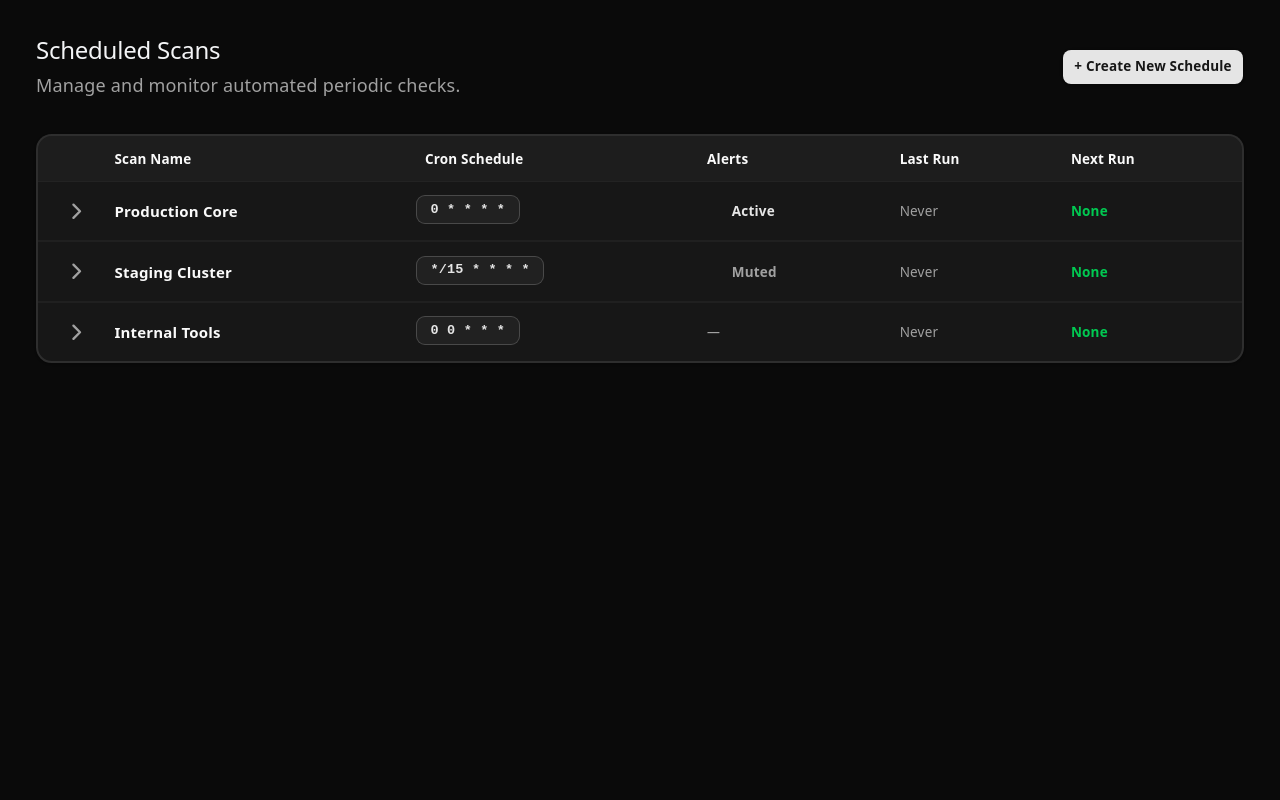
ScheduledScansPage Alert Stopper Controls › keeps inline Edit Schedule open and displays bottom error banner when update fails
Click the text "Production Core" at (176,211), box [106, 181, 416, 241]
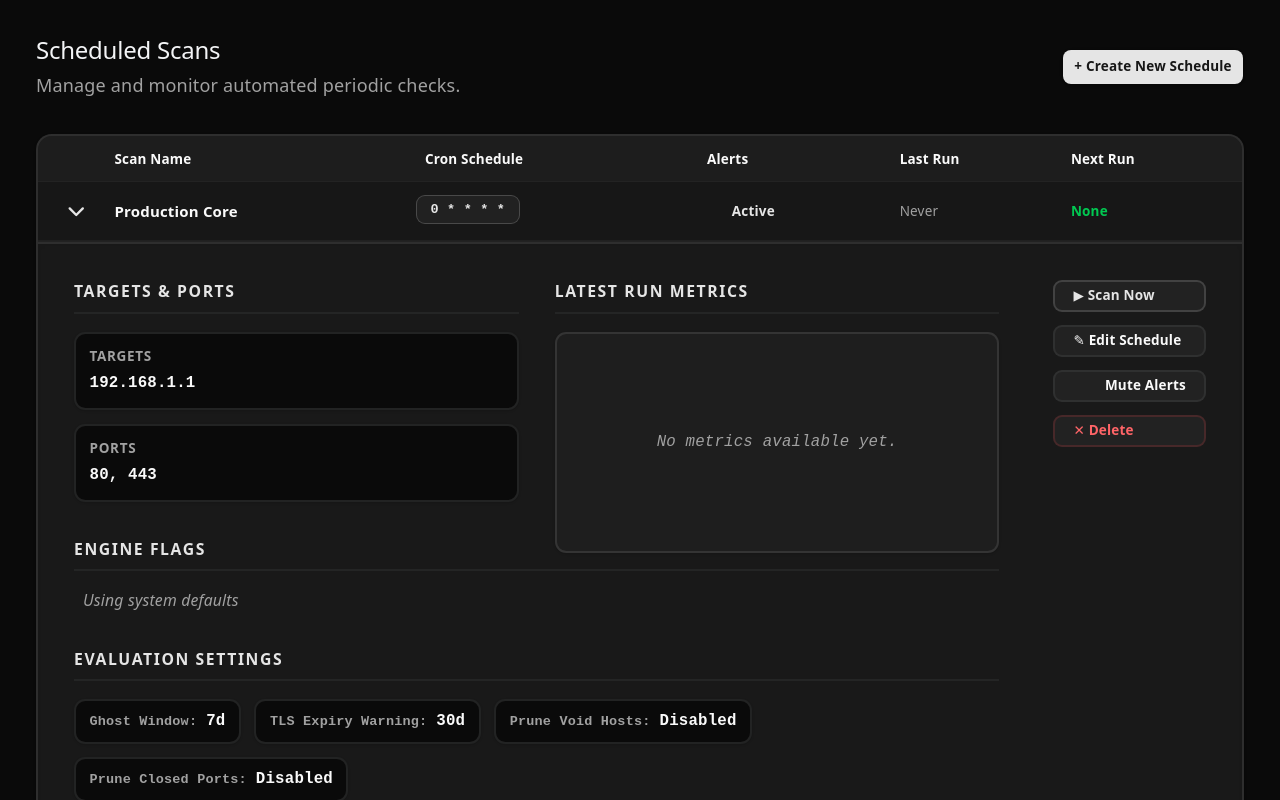
Click the button "✎ Edit Schedule" at (1130,341), box [1054, 325, 1206, 357]
(page scrolled)
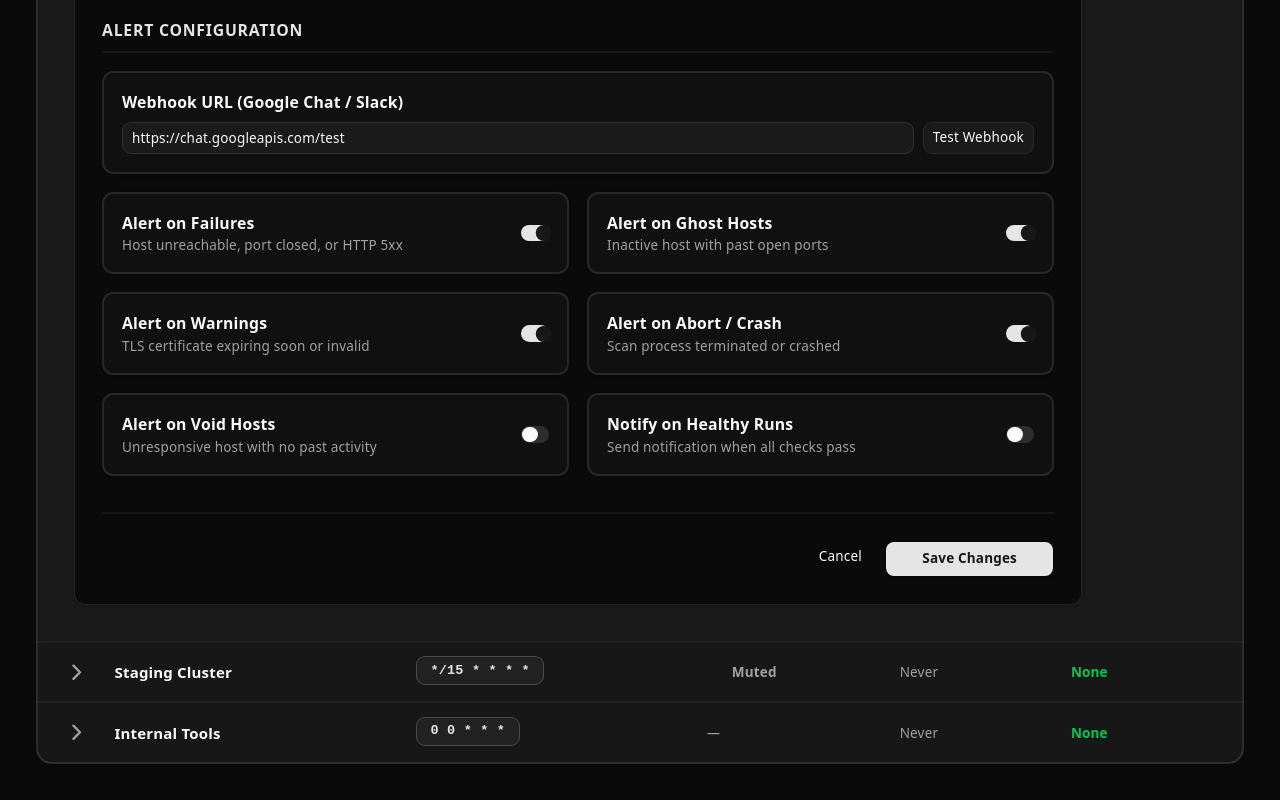
Click the button "Save Changes" at (970,559), box [885, 541, 1054, 577]
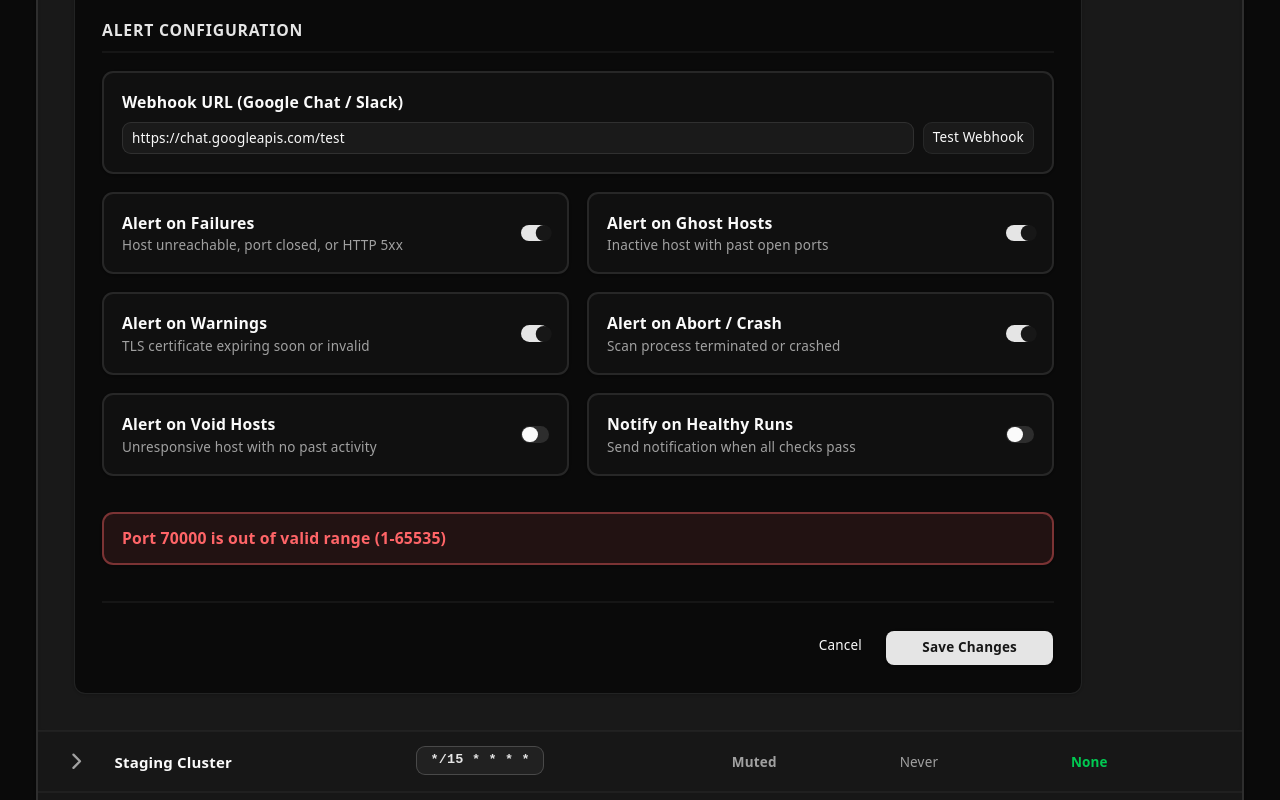
Check: the button "Save Changes" is shown, box [885, 630, 1054, 666]
Check: the message with test id "form-error-banner" reads "Port 70000 is out of valid range (1-65535)", box [122, 527, 446, 549]
